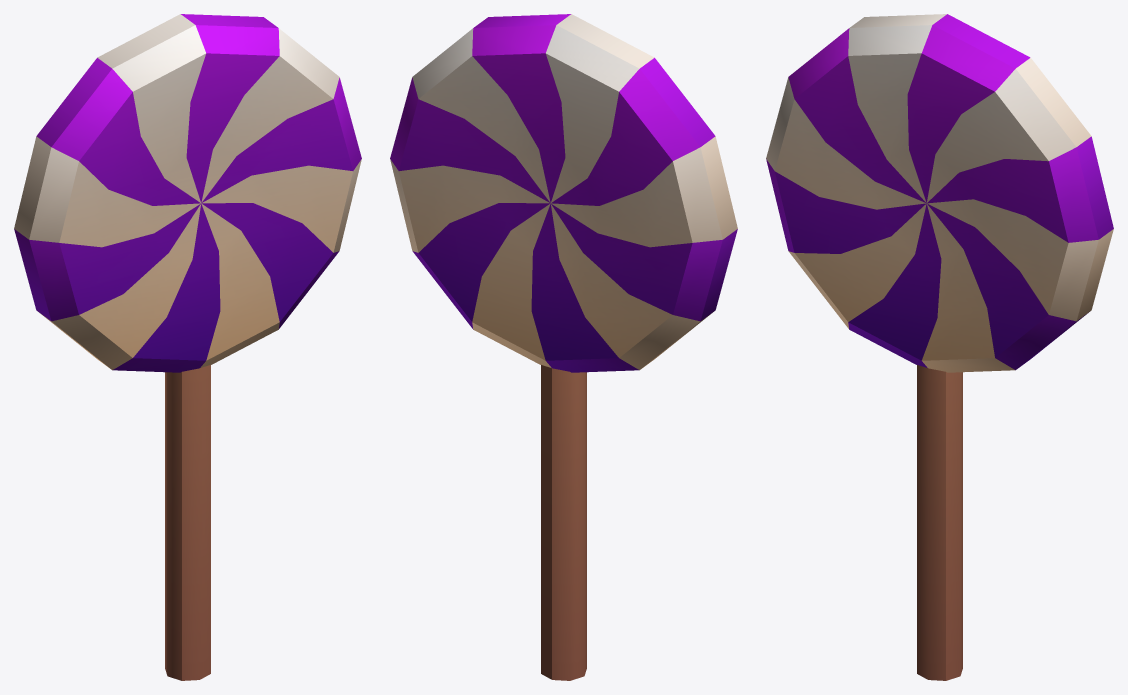
Rendered from lollipop_purple.gltf.
The picture shows the model from 3 angles, left to right: view 1: azimuth 30°, elevation 25°; view 2: azimuth 150°, elevation 25°; view 3: azimuth 330°, elevation 25°; orthographic projection.
Visible parts, largest first — view 1: lollipop_purple; view 2: lollipop_purple; view 3: lollipop_purple.
Part boxes in pixels (left/top/right/bottom): lollipop_purple: left=14, top=14, right=361, bottom=680; lollipop_purple: left=390, top=14, right=737, bottom=680; lollipop_purple: left=766, top=14, right=1113, bottom=680.
Bounding box in the file's own units: 0.65 × 1.23 × 0.1239.
Materials: 1 (1 with a texture image).
